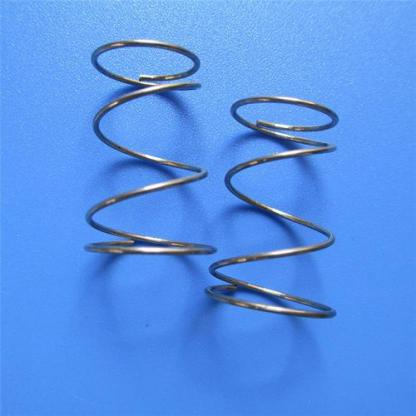FOD: (76, 34, 219, 260), (204, 94, 339, 320)
